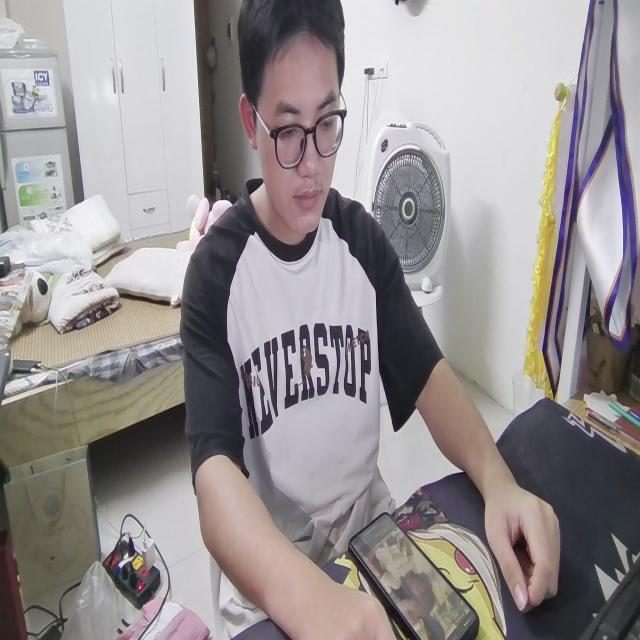phone: (348, 506, 478, 640)
student: (179, 0, 564, 640)
